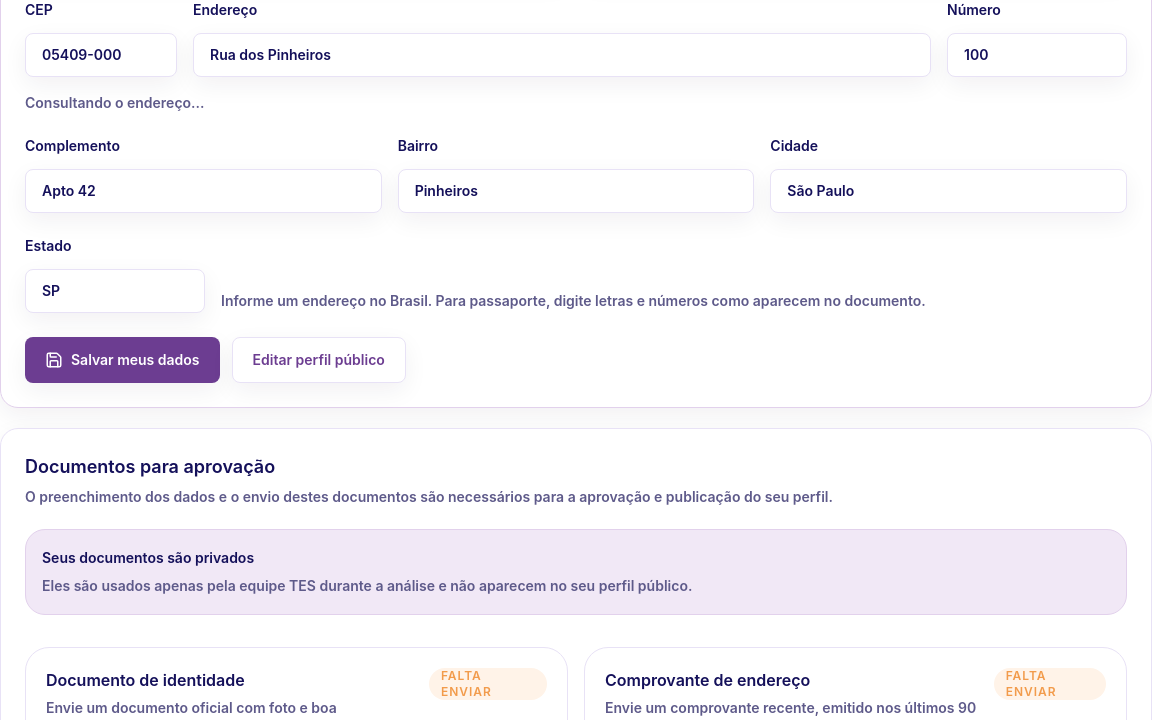
TherapistSettingsPage › shows the safe settings error for CPF_IN_USE
(page scrolled)
Click the button "Salvar meus dados". click: (122, 360)
box: left=25, top=337, right=220, bottom=383
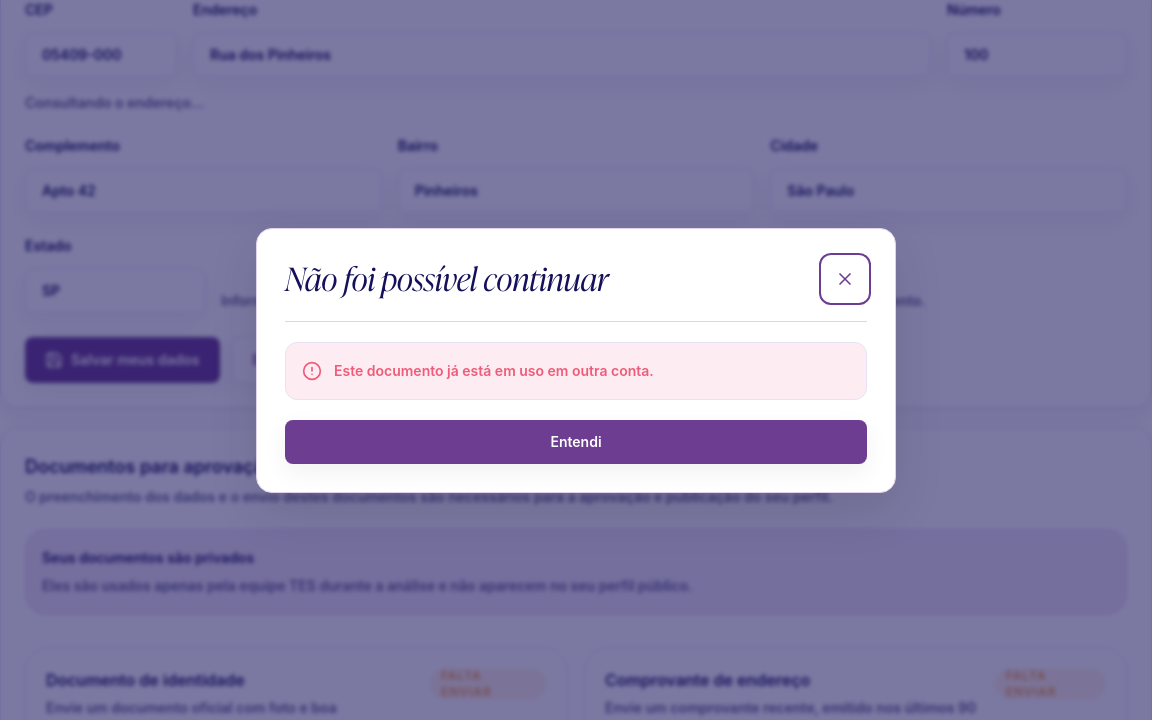
Expected: the message reads "Este documento já está em uso em outra conta.", left=334, top=362, right=654, bottom=378
